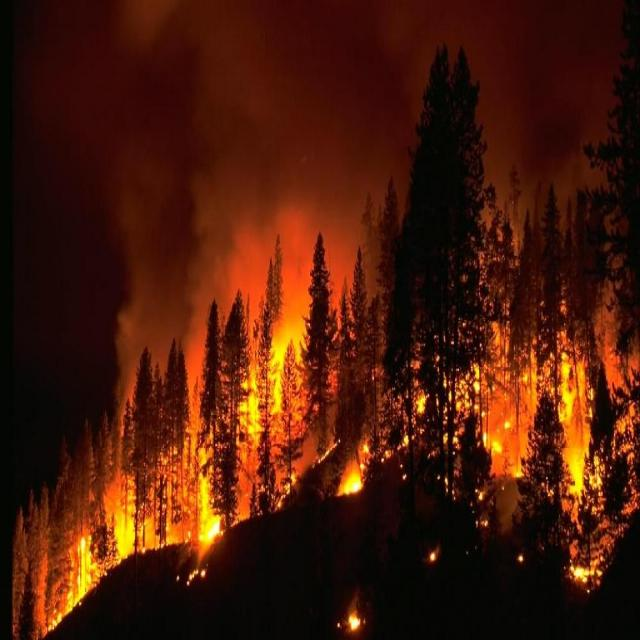Fire: (47, 531, 123, 620), (480, 385, 525, 484), (564, 367, 595, 509), (108, 502, 177, 560), (335, 405, 371, 499), (199, 500, 226, 545), (569, 565, 602, 595), (344, 601, 367, 637)
